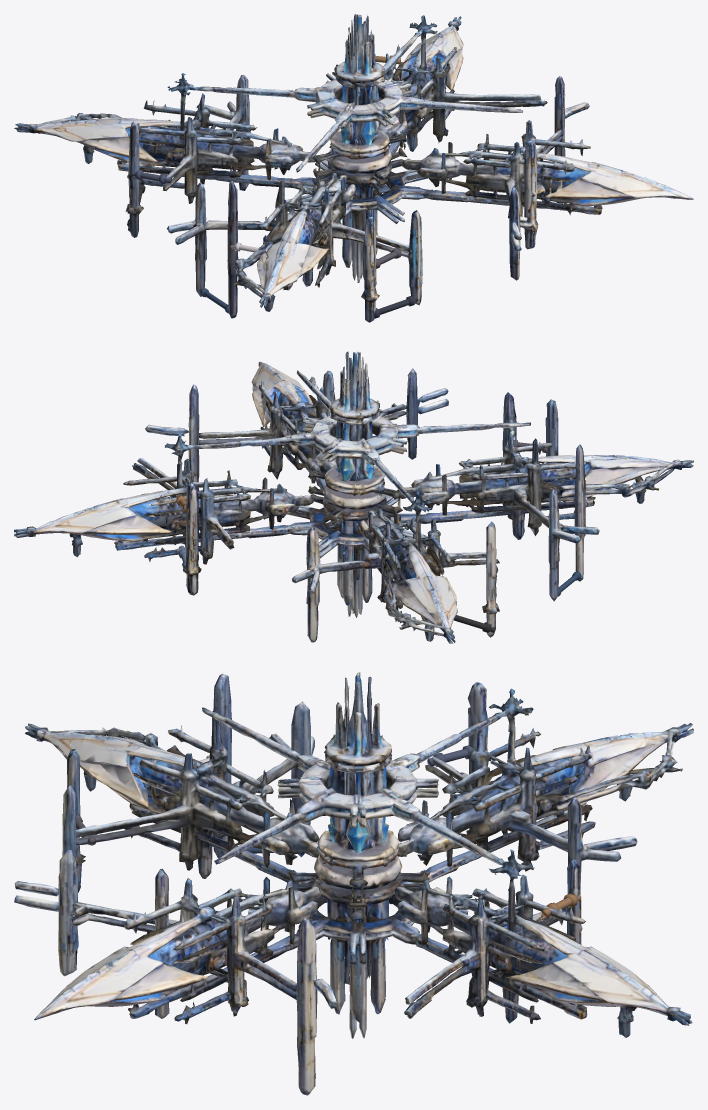
Rendered from st3d_aurelion_shipyard.glb.
3 views of the same model, one above another, from view 1: azimuth 30°, elevation 25°; view 2: azimuth 150°, elevation 25°; view 3: azimuth 270°, elevation 25° (orthographic). The views are drawn at different scales.
Visible parts, largest first — view 1: HOMELANCER_Station3D_Aurelion-Shipyard_v1; view 2: HOMELANCER_Station3D_Aurelion-Shipyard_v1; view 3: HOMELANCER_Station3D_Aurelion-Shipyard_v1.
Boxes of the visible parts, x1,y1,x2,y2 form: HOMELANCER_Station3D_Aurelion-Shipyard_v1: (14, 14, 693, 322); HOMELANCER_Station3D_Aurelion-Shipyard_v1: (14, 351, 693, 643); HOMELANCER_Station3D_Aurelion-Shipyard_v1: (14, 672, 693, 1095).
Size of the model in its own units: 0.9795 by 0.5606 by 0.9513.
Materials: 1 (1 with a texture image).
